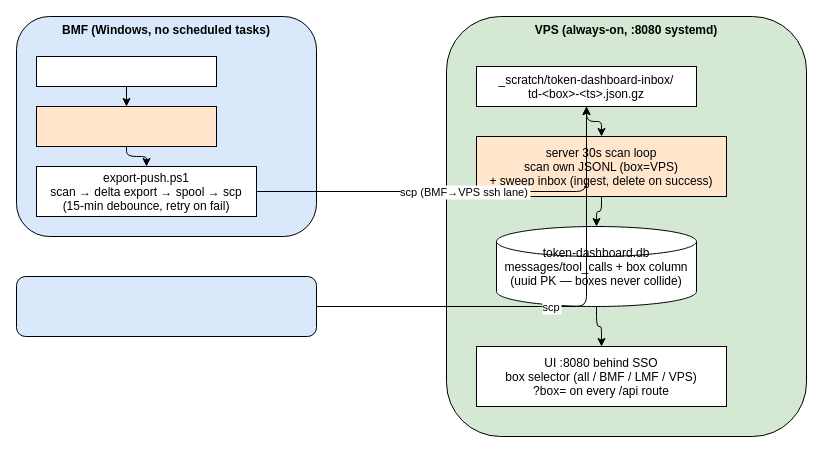
The diagram is 823 pixels wide and 453 high, and some of its shapes have lost their labels. The shapes that lost their labels are listed below. From the top down, each one's centre as x and y in pixels, then its label:
At (x=126, y=71): "~/.claude/projects/*.jsonl".
At (x=126, y=126): "Claude Code SessionEnd hook (the no-decision trigger)".
At (x=166, y=306): "LMF — identical lane (export-push.sh)".
